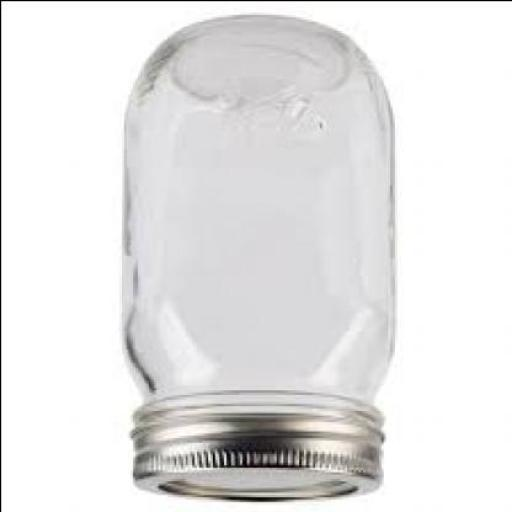glass: (120, 21, 398, 437)
metal: (132, 409, 385, 503)
